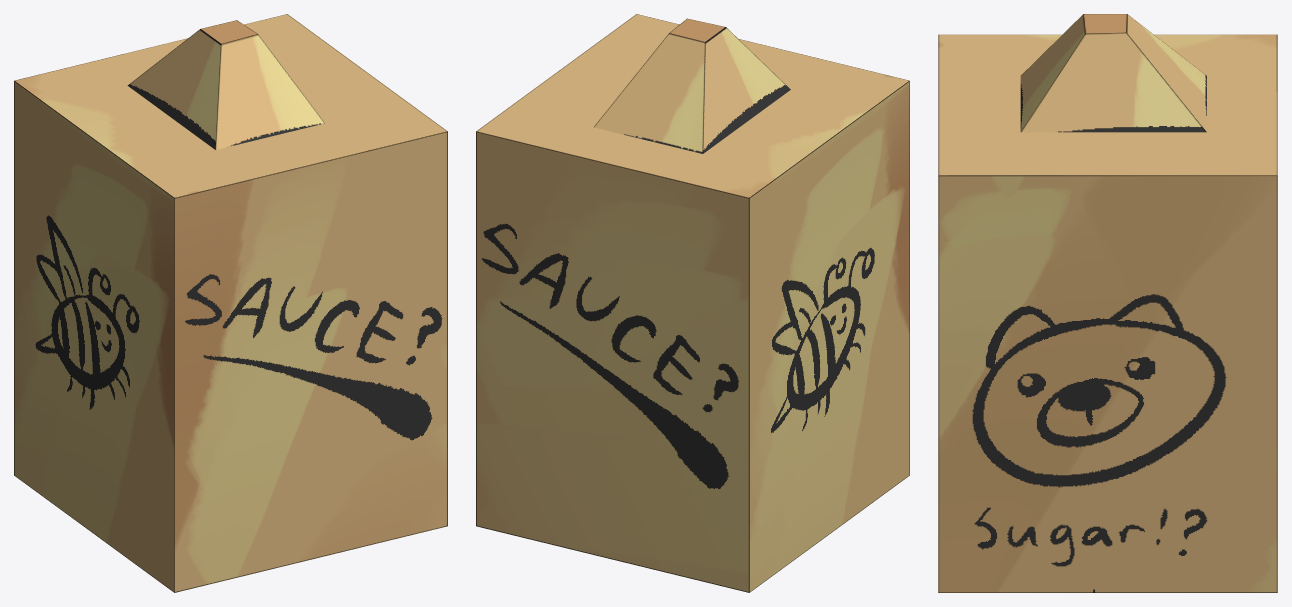
The model's file is sauce bottle 1.fbx.
3 renders of one model, left to right at view 1: azimuth 30°, elevation 25°; view 2: azimuth 150°, elevation 25°; view 3: azimuth 270°, elevation 25°, orthographic. The views are drawn at different scales.
Parts seen in each view (by area): view 1: Cube; view 2: Cube; view 3: Cube.
Part boxes in pixels (x1,y1,x2,y2): Cube: [14, 14, 447, 592]; Cube: [476, 14, 909, 592]; Cube: [938, 14, 1277, 592].
Size of the model in its own units: 267 by 439 by 271.
Materials: 1 (1 with a texture image).
